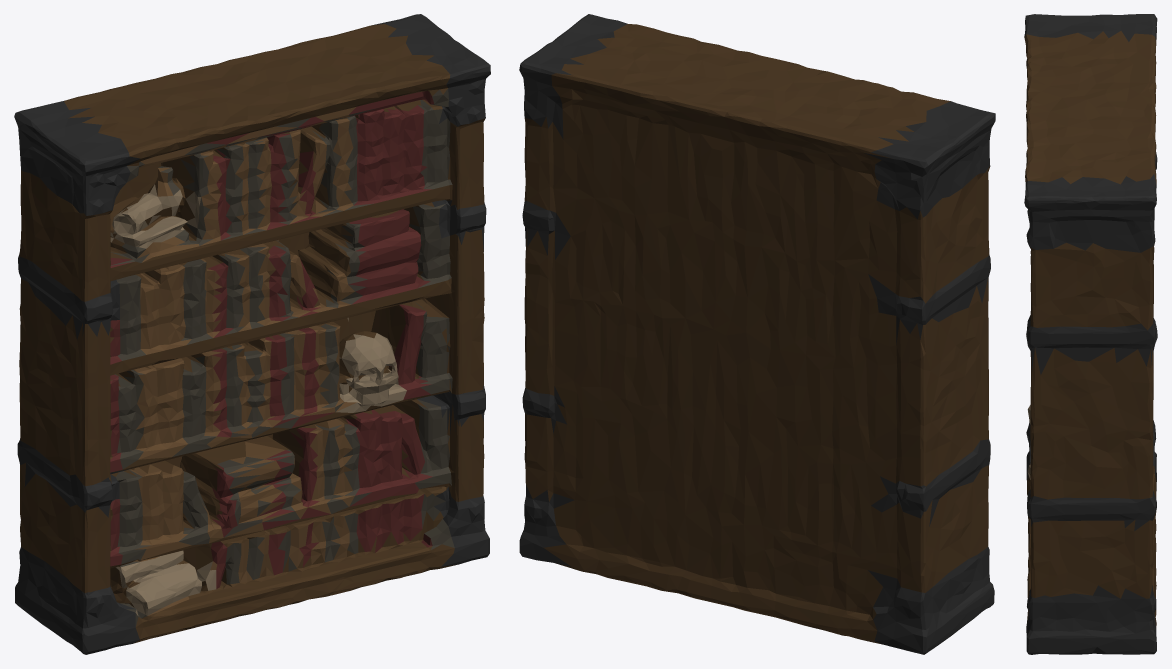
Rendered from estante_livros.glb.
3 renders of one model, left to right at view 1: azimuth 30°, elevation 25°; view 2: azimuth 150°, elevation 25°; view 3: azimuth 270°, elevation 25°, orthographic. The views are drawn at different scales.
Visible parts, largest first — view 1: tmpajwgo7ou.ply; view 2: tmpajwgo7ou.ply; view 3: tmpajwgo7ou.ply.
Boxes of the visible parts, left/top/right/bottom form: tmpajwgo7ou.ply: left=14, top=14, right=490, bottom=654; tmpajwgo7ou.ply: left=519, top=14, right=995, bottom=654; tmpajwgo7ou.ply: left=1024, top=14, right=1157, bottom=654.
Size of the model in its own units: 1.7 by 1.96 by 0.5165.
